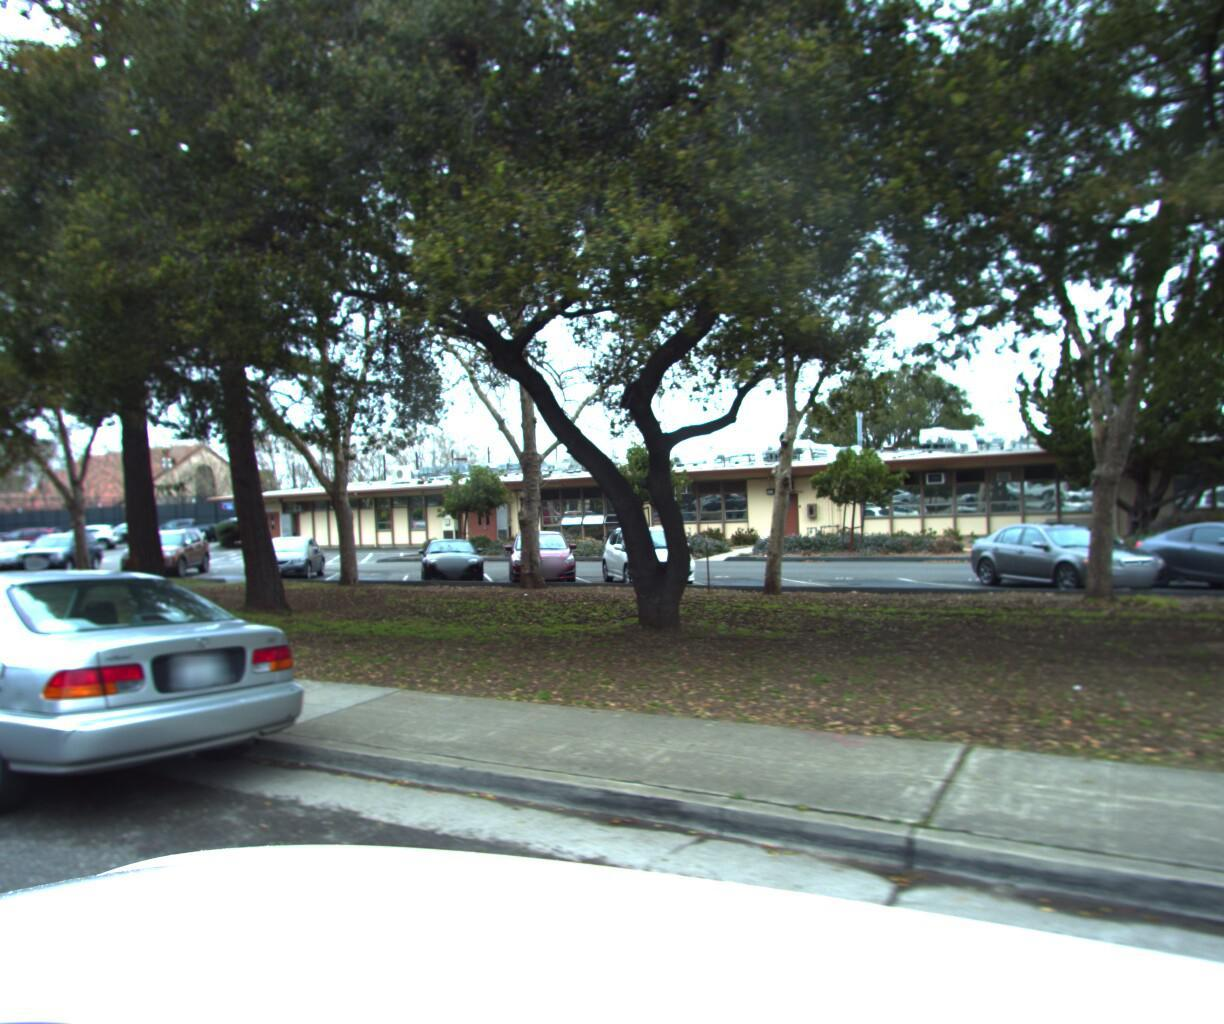car: (0, 550, 340, 864)
